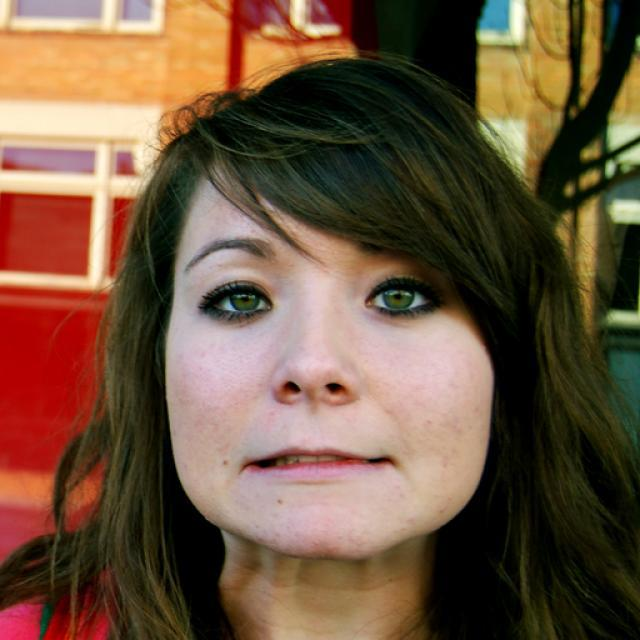content: (165, 171, 496, 559)
